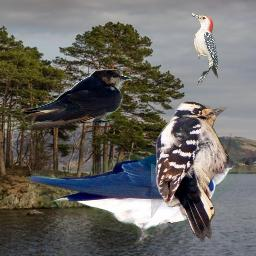Swallow: (26, 139, 243, 246), (21, 69, 131, 130)
Woodpecker: (151, 99, 246, 242), (189, 12, 218, 86)
